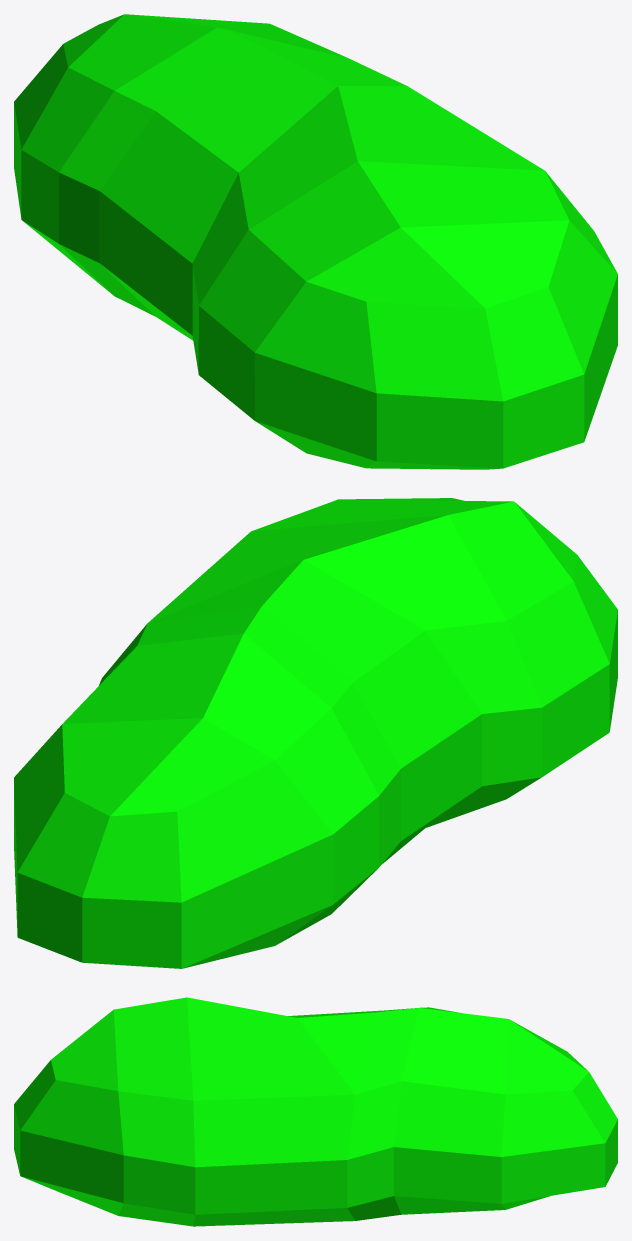
File: SM_Kidney_Right.fbx
3 views of the same model, one above another, from view 1: azimuth 30°, elevation 25°; view 2: azimuth 150°, elevation 25°; view 3: azimuth 270°, elevation 25° (orthographic). The views are drawn at different scales.
Parts seen in each view (by area): view 1: kidney-right; view 2: kidney-right; view 3: kidney-right.
Boxes of the visible parts, box(x1,y1,x2,y2) form: kidney-right: box(14, 14, 617, 469); kidney-right: box(14, 498, 617, 968); kidney-right: box(14, 997, 617, 1226).
Size of the model in its own units: 0.0893 by 0.0583 by 0.1851.
